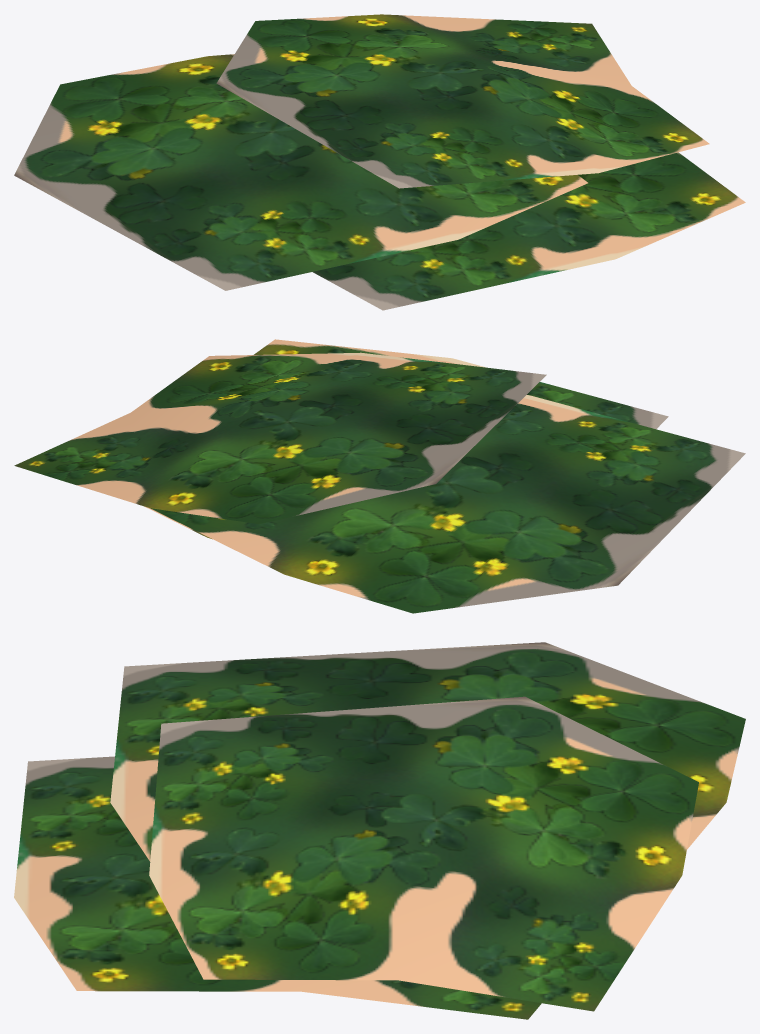
Rendered from Flower_Mesh.fbx.
3 views of the same model, one above another, from view 1: azimuth 30°, elevation 25°; view 2: azimuth 150°, elevation 25°; view 3: azimuth 270°, elevation 25° (orthographic). The views are drawn at different scales.
Parts seen in each view (by area): view 1: Plant_flower; view 2: Plant_flower; view 3: Plant_flower.
Part boxes in pixels (x1,y1,x2,y2): Plant_flower: (14,14,745,310); Plant_flower: (14,339,745,613); Plant_flower: (14,642,745,1019).
Bounding box in the file's own units: 14.33 × 1.61 × 12.36.
